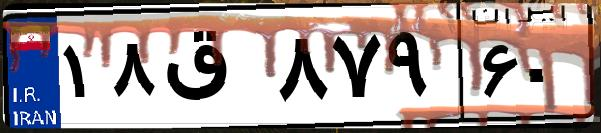0: (525, 38, 570, 115)
1: (57, 26, 110, 100)
6: (475, 38, 525, 113)
7: (330, 28, 385, 110)
8: (270, 28, 330, 110), (110, 28, 158, 98)
9: (385, 28, 445, 110)
ق: (158, 20, 270, 120)
